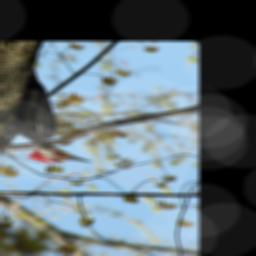Woodpecker: (5, 67, 97, 164)
